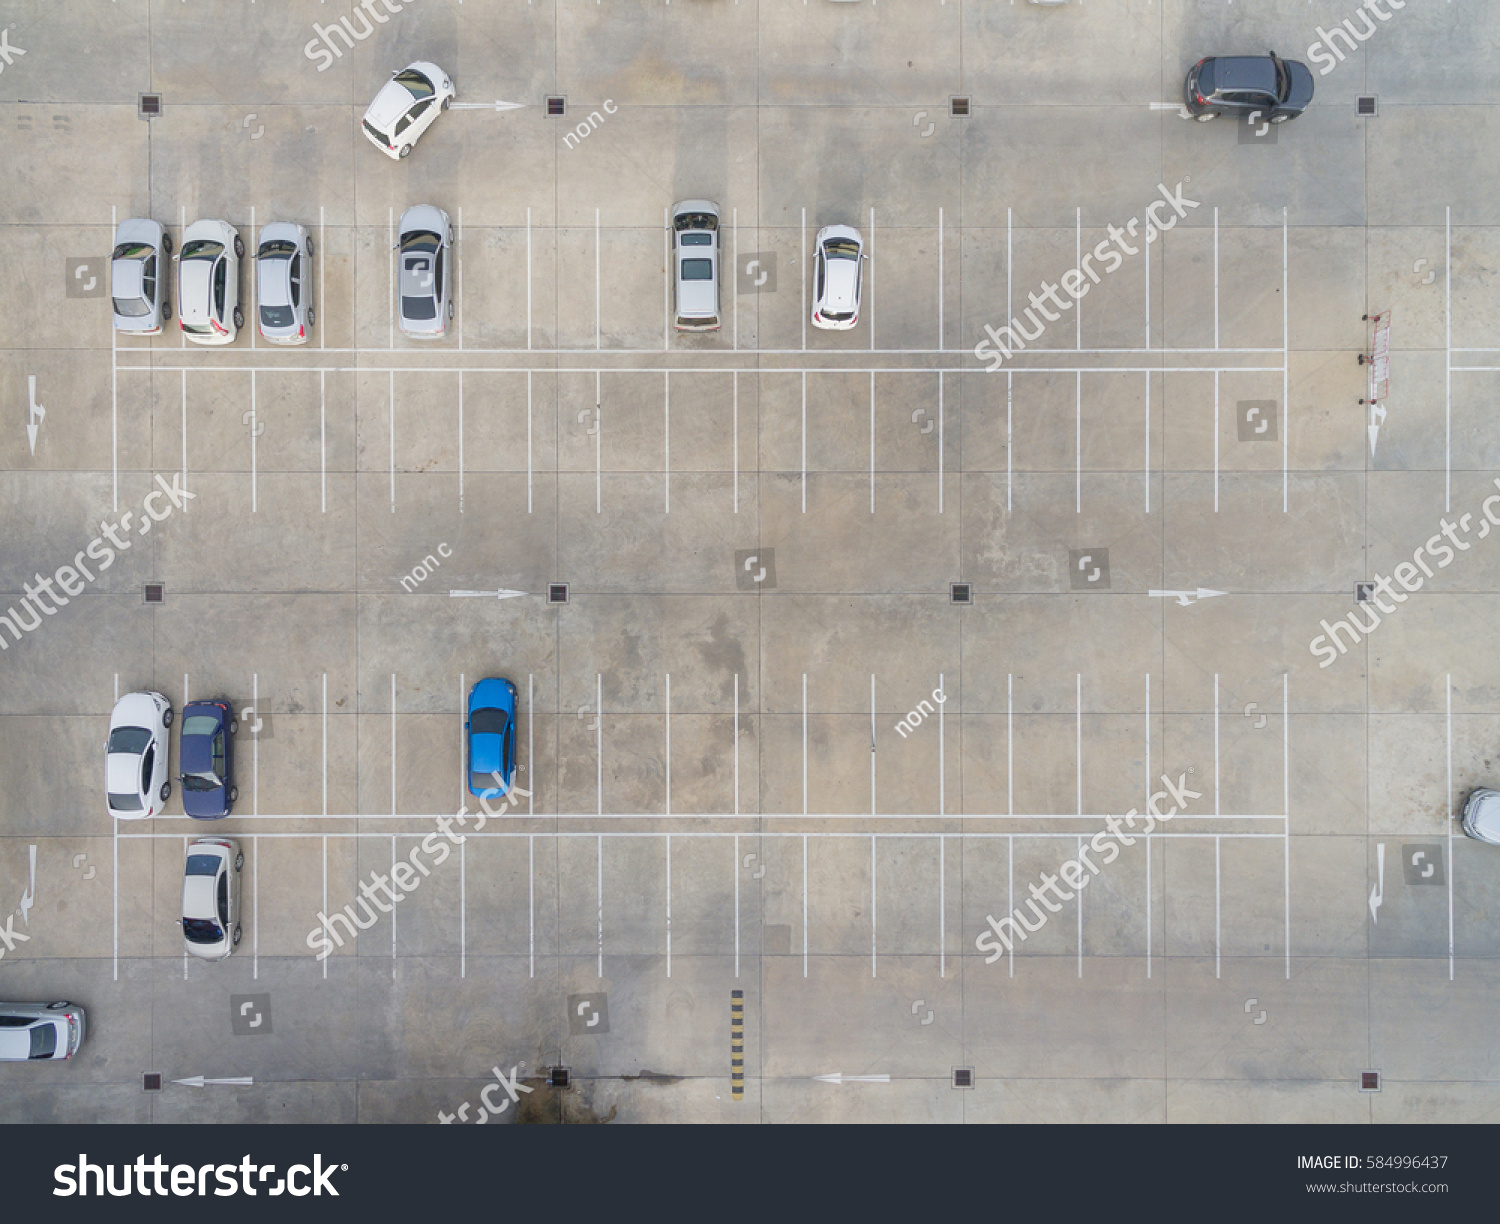Car: (363, 54, 456, 162), (1185, 51, 1322, 125), (103, 689, 176, 821), (178, 218, 245, 347), (181, 834, 244, 963), (395, 206, 455, 343), (108, 214, 173, 339), (667, 196, 723, 333), (465, 676, 525, 803), (255, 221, 315, 347), (805, 222, 867, 334), (179, 697, 235, 821), (1, 993, 93, 1067)
LaneMark: (103, 347, 1292, 355), (107, 366, 1284, 373), (1444, 202, 1451, 519), (1282, 204, 1289, 520), (22, 371, 49, 457), (1142, 583, 1232, 605), (1211, 204, 1223, 350), (446, 585, 533, 605), (1444, 669, 1454, 839), (110, 348, 120, 517), (458, 95, 529, 118), (1005, 668, 1017, 816), (1144, 669, 1152, 858), (1004, 370, 1015, 514), (936, 369, 946, 521), (179, 365, 189, 515), (386, 370, 396, 519), (799, 370, 809, 519), (1004, 204, 1014, 351), (525, 370, 534, 517), (1211, 369, 1221, 515), (1073, 206, 1083, 350), (456, 370, 466, 515), (799, 204, 809, 348), (1144, 371, 1154, 514), (525, 207, 534, 348), (1282, 668, 1291, 821), (389, 667, 397, 819), (596, 668, 604, 819), (733, 669, 741, 819), (1144, 202, 1152, 351), (458, 671, 467, 819), (250, 370, 259, 519), (594, 370, 603, 519), (870, 370, 878, 519), (800, 669, 809, 815), (320, 368, 329, 514), (731, 204, 740, 349), (938, 671, 946, 838), (870, 669, 878, 808), (1075, 671, 1081, 863), (938, 204, 946, 351), (664, 371, 672, 519), (319, 204, 326, 349), (1075, 369, 1083, 514), (320, 669, 328, 813), (733, 370, 740, 514), (665, 669, 673, 811), (1213, 669, 1220, 838), (253, 671, 260, 806), (528, 669, 534, 824), (596, 204, 602, 349), (871, 204, 876, 351), (1451, 343, 1500, 354), (1448, 364, 1500, 374)
